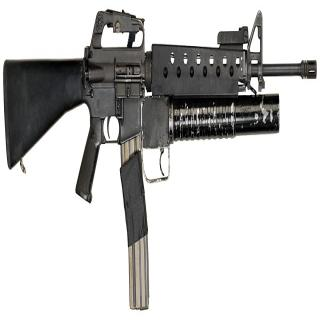gun: (3, 7, 316, 309)
